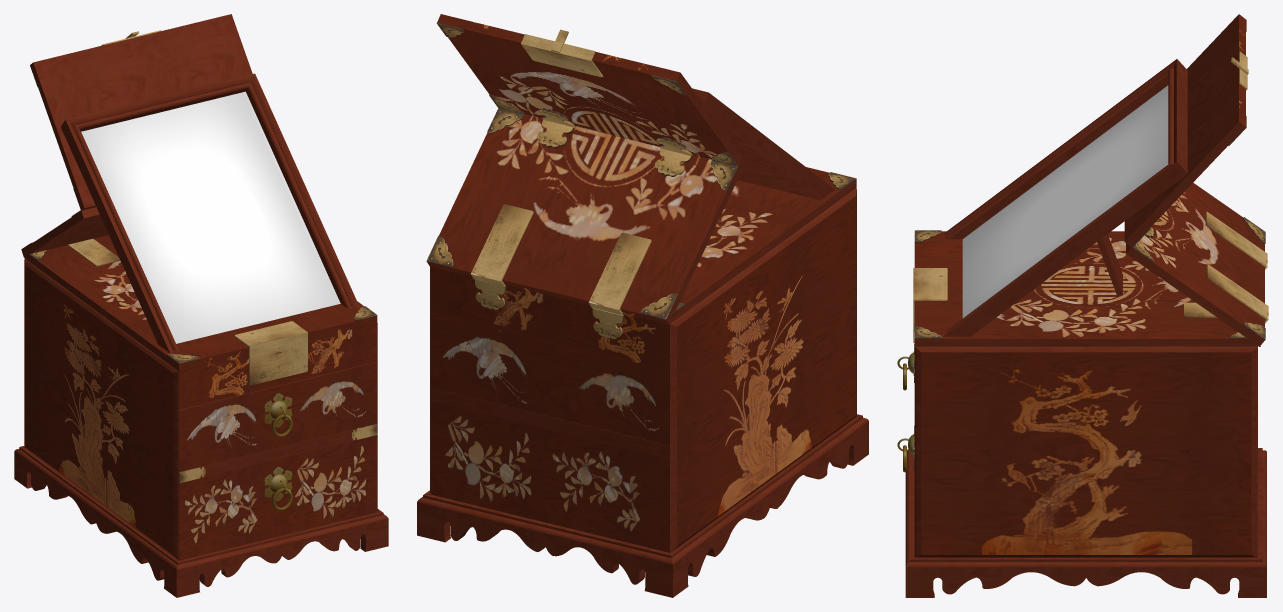
The model's file is Dressing table.FBX.
The picture shows the model from 3 angles, left to right: view 1: azimuth 30°, elevation 25°; view 2: azimuth 150°, elevation 25°; view 3: azimuth 270°, elevation 25°; orthographic projection. The views are drawn at different scales.
Parts seen in each view (by area): view 1: Group_828, Group_822, Group_827, Group_833, Group_831; view 2: Group_822, Group_828; view 3: Group_822, Group_828.
Part boxes in pixels (x1,y1,x2,y2): Group_828: [21, 14, 377, 385]; Group_822: [14, 258, 388, 597]; Group_827: [179, 435, 377, 560]; Group_833: [179, 362, 377, 471]; Group_831: [179, 323, 377, 409]; Group_822: [417, 188, 868, 597]; Group_828: [426, 14, 856, 324]; Group_822: [905, 346, 1266, 597]; Group_828: [913, 14, 1268, 346].
Size of the model in its own units: 10.5 by 20.51 by 14.32.
